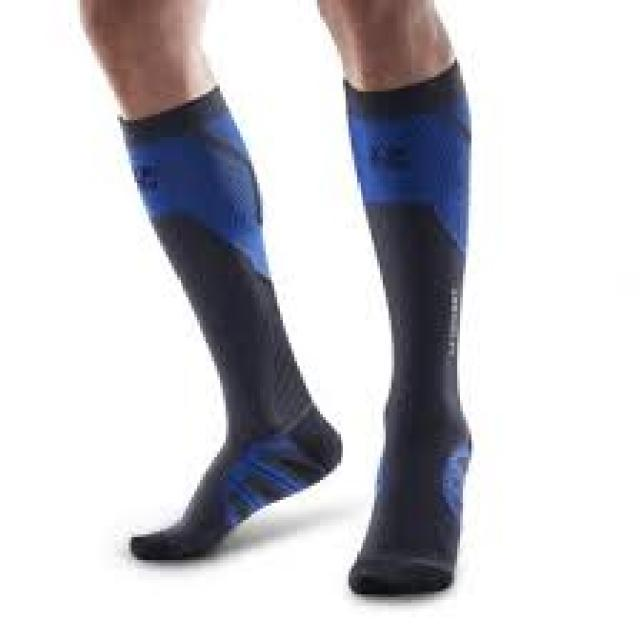sock: (114, 83, 340, 560), (340, 57, 471, 594)
